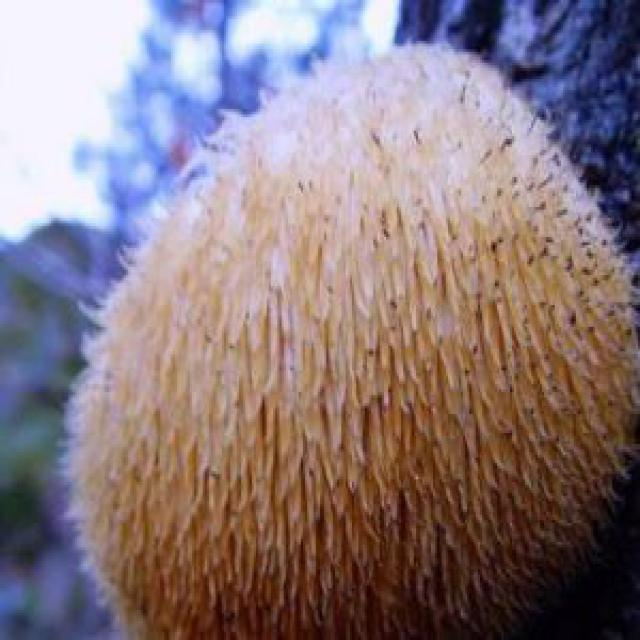Hericium erinaceus: (71, 42, 633, 640)
